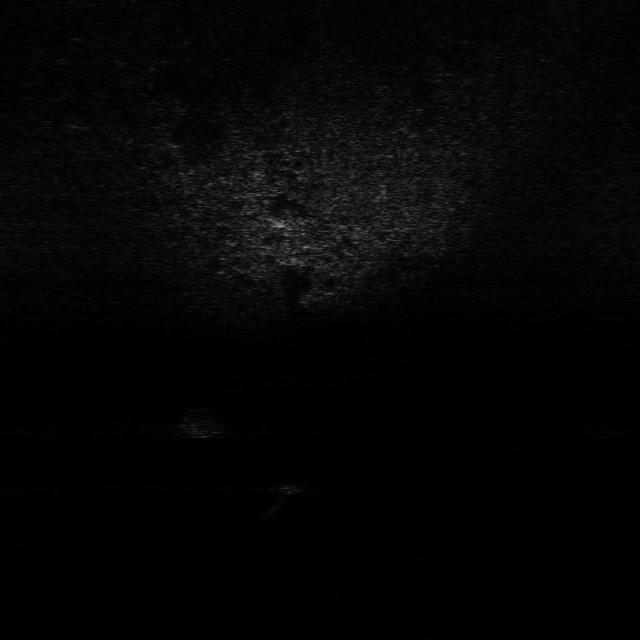circle cage: (178, 406, 230, 444)
cylinder: (262, 477, 307, 520)
